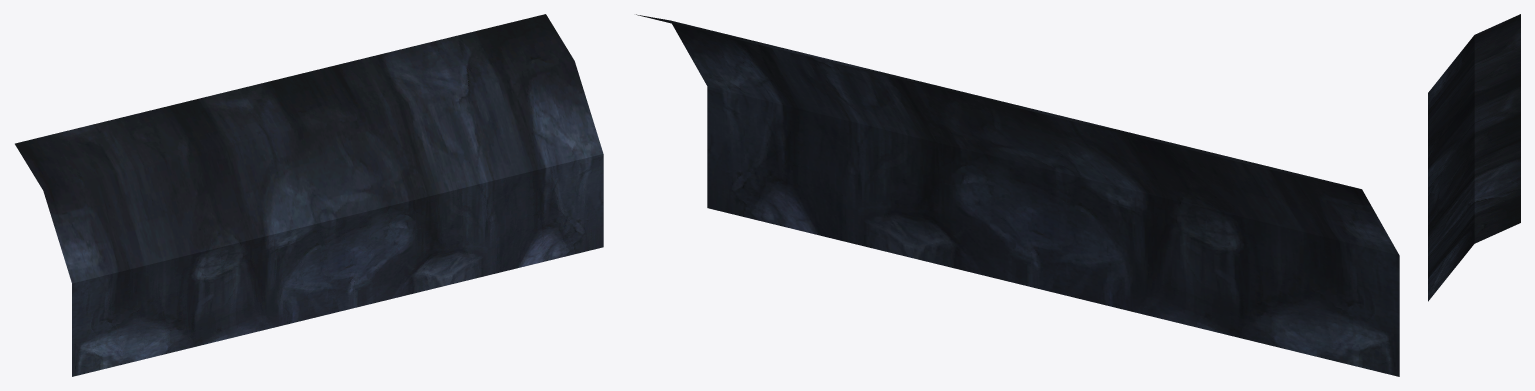
The model's file is mine_cap_straight_01.fbx.
3 views of the same model, side by side, from view 1: azimuth 30°, elevation 25°; view 2: azimuth 150°, elevation 25°; view 3: azimuth 270°, elevation 25° (orthographic). The views are drawn at different scales.
Visible parts, largest first — view 1: obj0.052; view 2: obj0.052; view 3: obj0.052.
Boxes of the visible parts, left/top/right/bottom form: obj0.052: left=15, top=14, right=603, bottom=376; obj0.052: left=636, top=14, right=1399, bottom=376; obj0.052: left=1428, top=14, right=1520, bottom=301.
Bounding box in the file's own units: 4 × 1.37 × 0.75.
